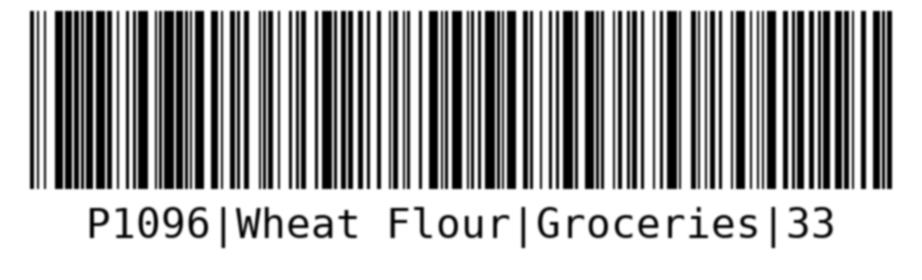milk: (21, 4, 902, 266)
